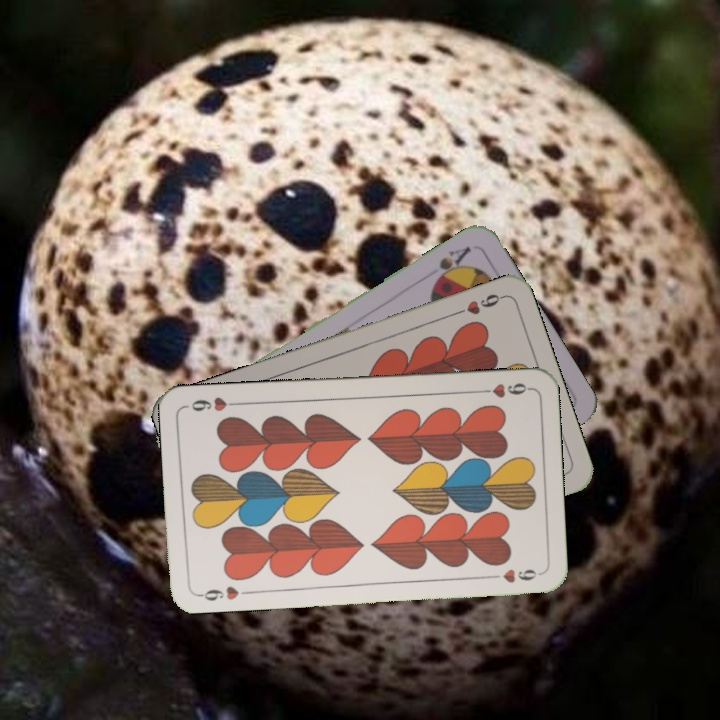H9: (449, 289, 507, 318), (473, 379, 532, 400), (193, 582, 241, 603)
SA: (428, 242, 474, 288)
